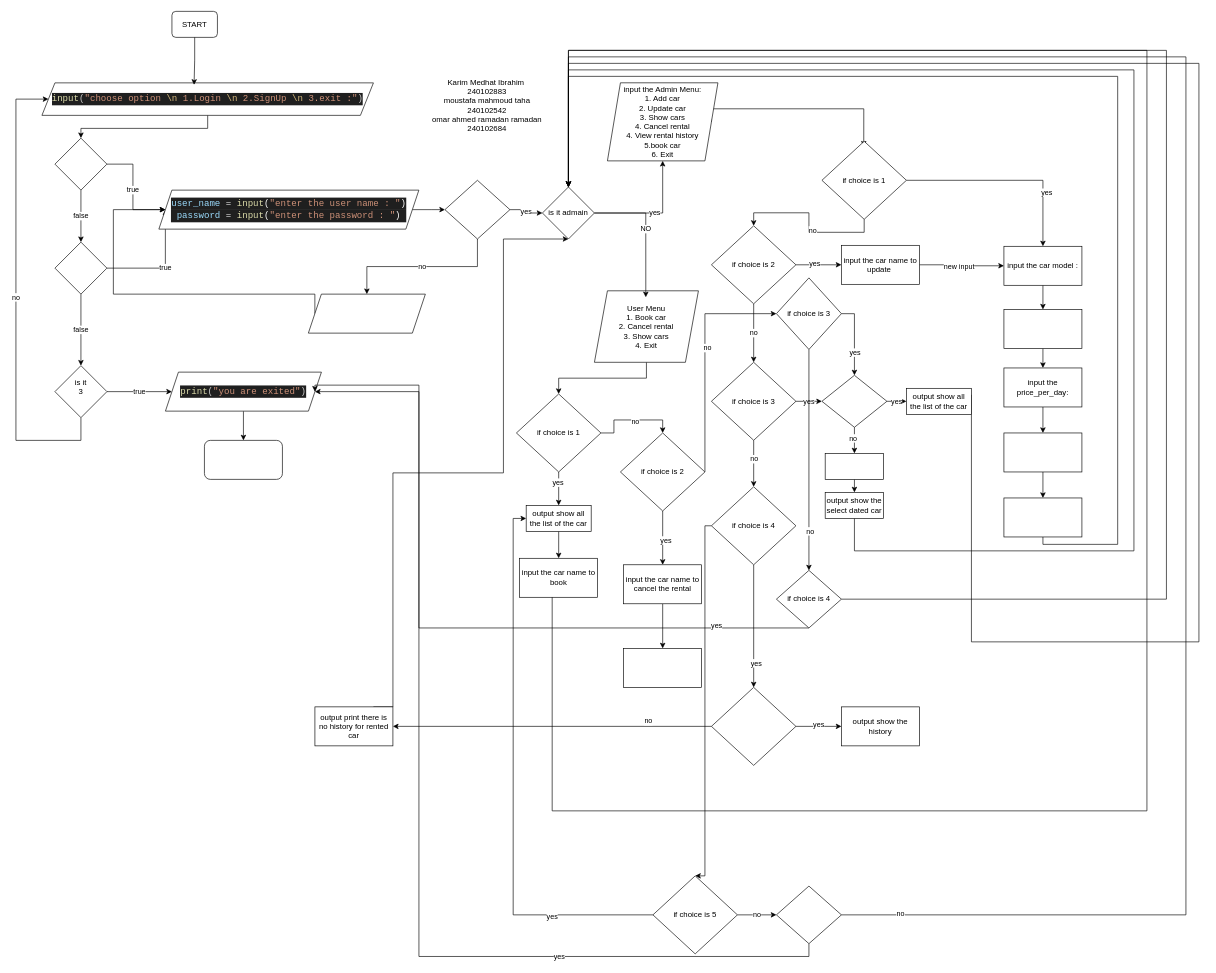
Image size: 1216x973. Some labels were removed from this diagram. Each missing label, with the centre of its shape:
do you want to show all the cars: point (854, 401)
if choice is 6: point (808, 914)
if there is a a history for a rental car: point (753, 726)
input show car using date: point (854, 466)
input the car reg number :: point (1042, 328)
input the car_day:: point (1042, 452)
input the res_day:: point (1042, 517)
is it 1: point (80, 163)
is it 2: point (80, 267)
is the user password right: point (477, 209)
ouptput the car rental is canclled: point (662, 667)
print ( " try again " ): point (366, 313)
STOP: point (243, 459)
